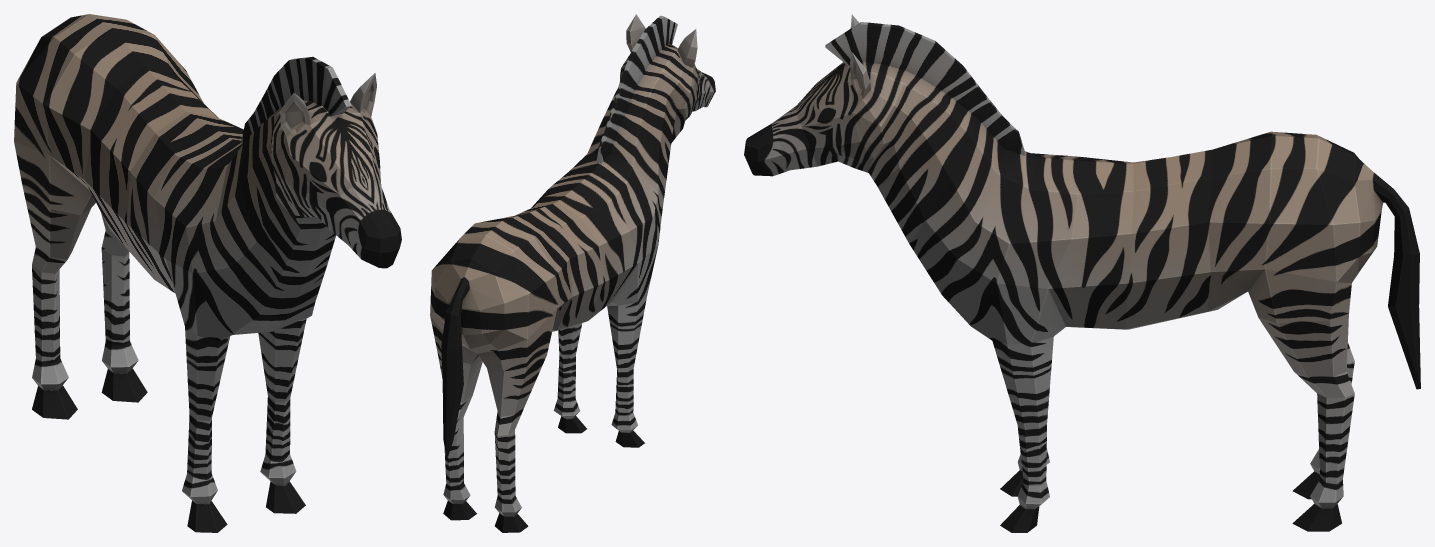
The model's file is Zebra.gltf.
3 views of the same model, side by side, from view 1: azimuth 30°, elevation 25°; view 2: azimuth 150°, elevation 25°; view 3: azimuth 270°, elevation 25° (orthographic). The views are drawn at different scales.
Visible parts, largest first — view 1: node-0; view 2: node-0; view 3: node-0.
Boxes of the visible parts, x1,y1,x2,y2 form: node-0: (14,14,401,532); node-0: (430,14,715,532); node-0: (744,14,1420,532).
Bounding box in the file's own units: 3.49 × 12 × 15.2.
1 material, 1 textured.
